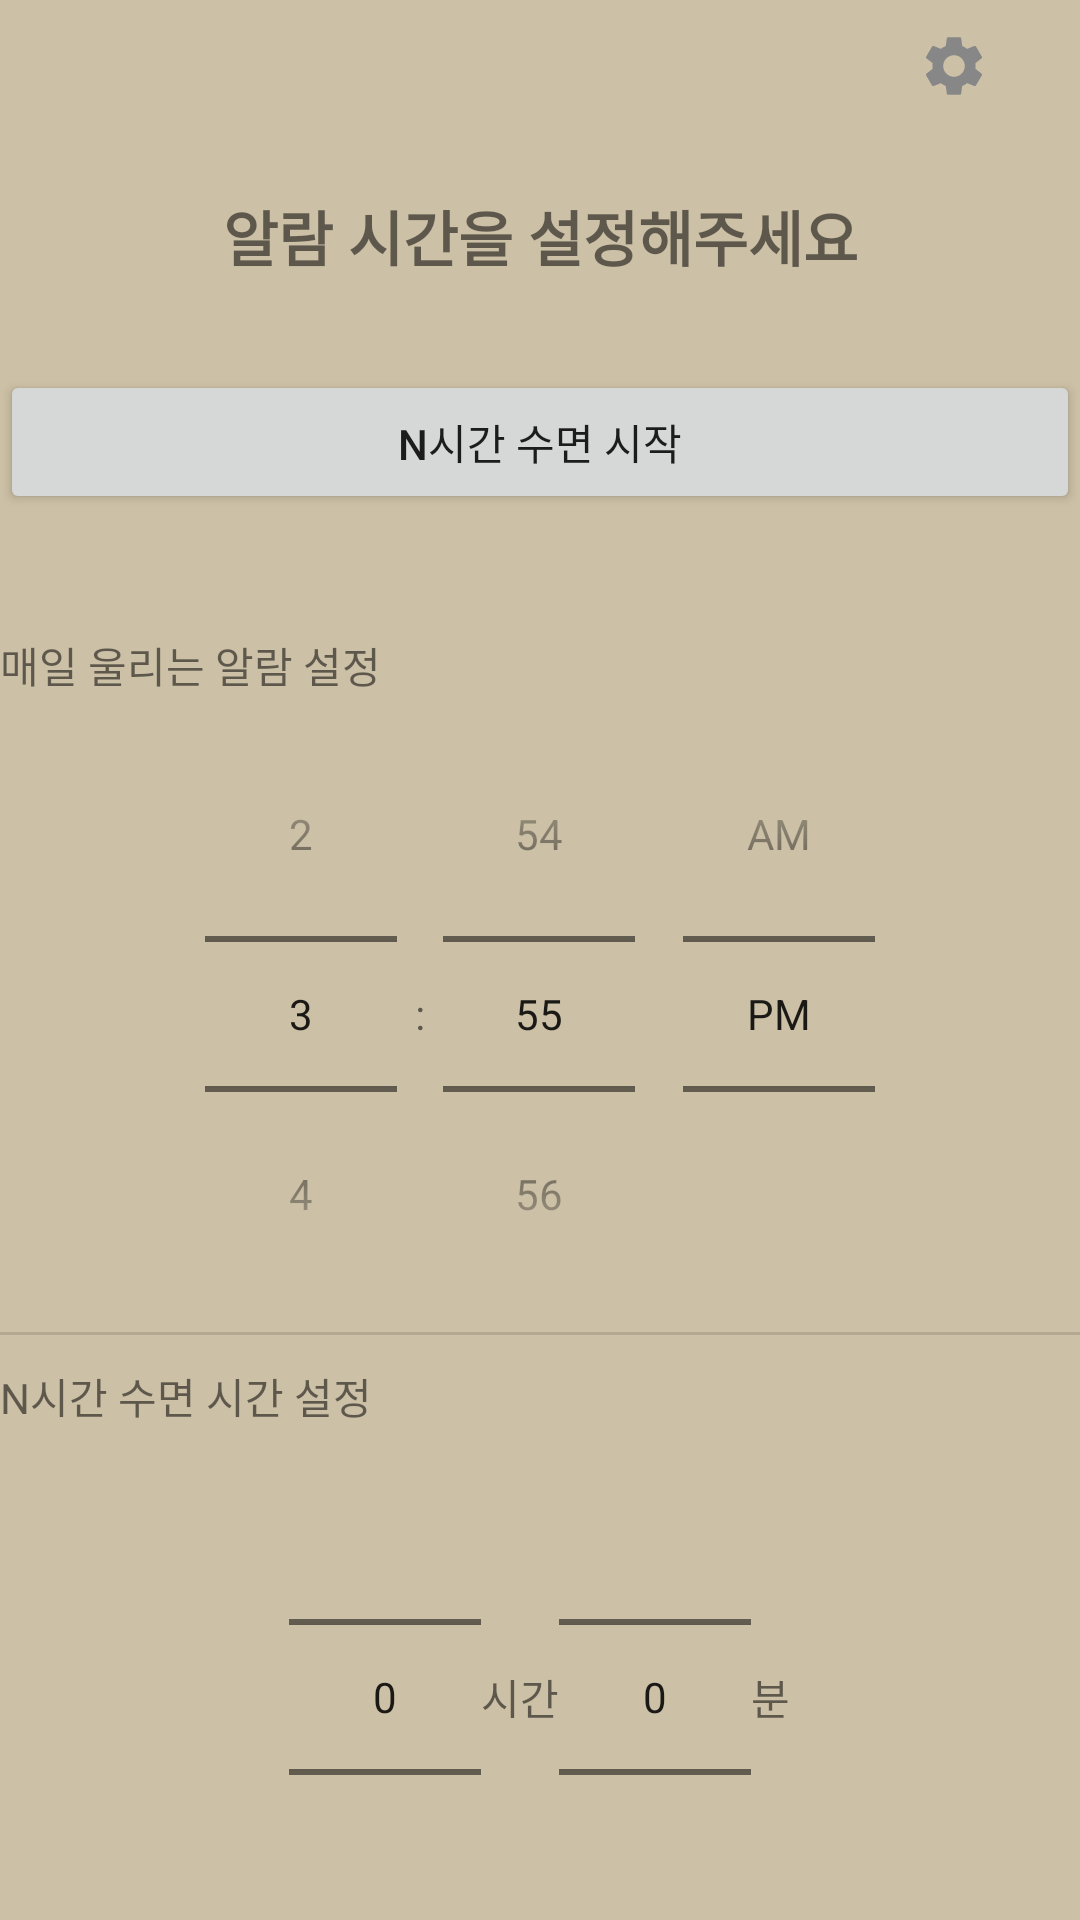

Locate icon controls on the screen. Image size 1080px×1920px, boxes as (x1, y1, x2, y2).
settings: (926, 37, 982, 95)
